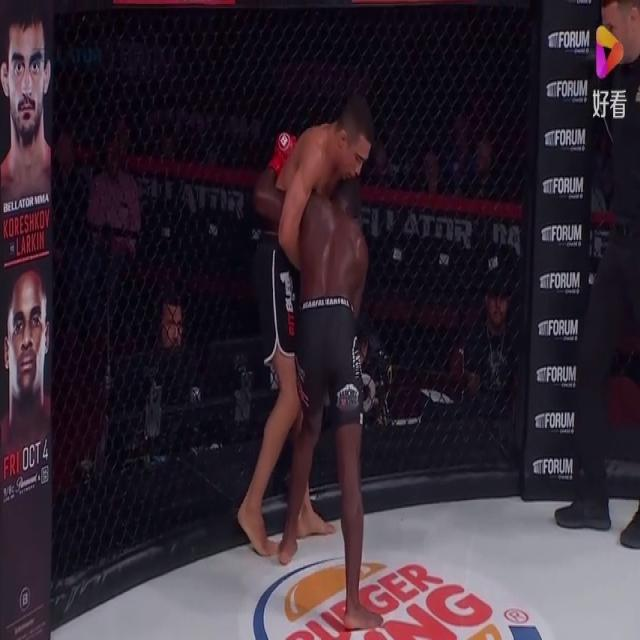fight: (235, 86, 381, 570)
